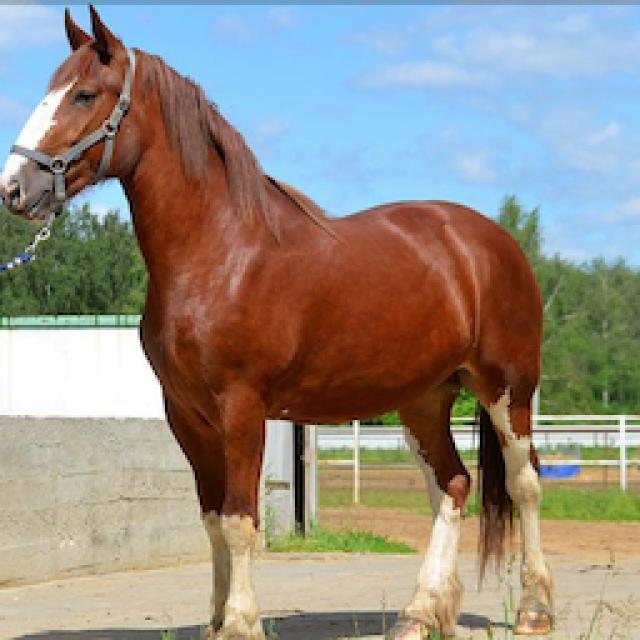Horse: (0, 0, 568, 638)
